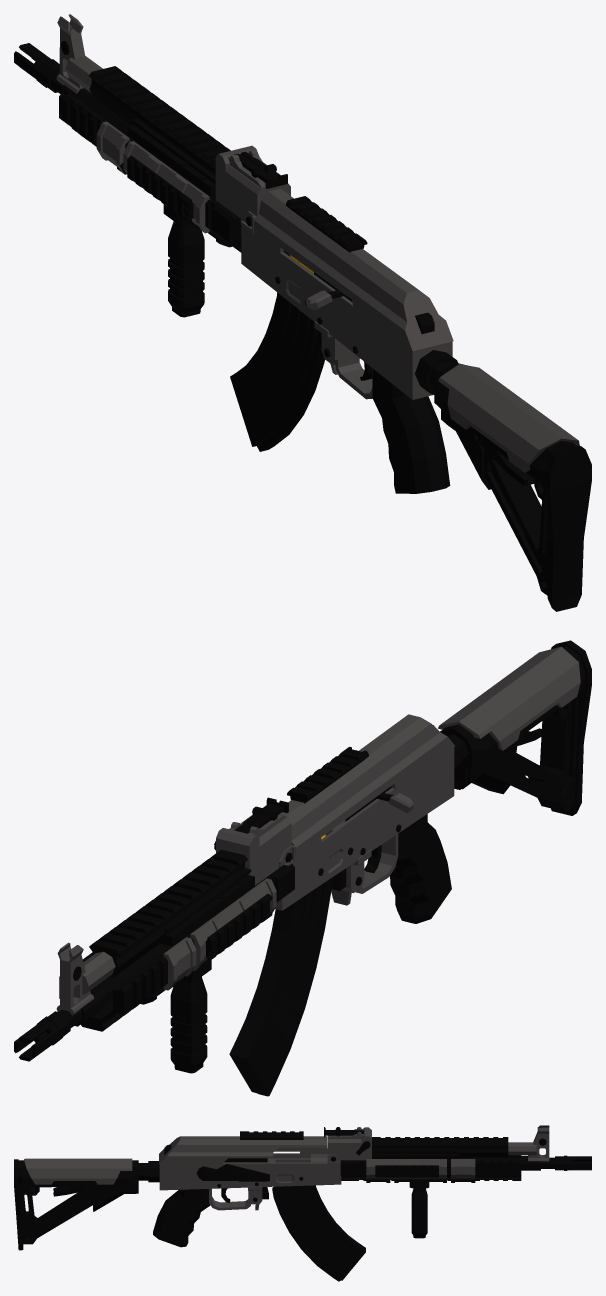
The model's file is ak_beta.fbx.
3 renders of one model, top to bottom at view 1: azimuth 30°, elevation 25°; view 2: azimuth 150°, elevation 25°; view 3: azimuth 270°, elevation 25°, orthographic. The views are drawn at different scales.
Parts seen in each view (by area): view 1: AK-BETA, AK-BETA-MAG, Grip, rails; view 2: AK-BETA, AK-BETA-MAG, Grip, rails; view 3: AK-BETA, AK-BETA-MAG, Grip, Pull, rails.
Part boxes in pixels (<box>): AK-BETA: <box>14,14,591,611</box>; AK-BETA-MAG: <box>230,255,324,451</box>; Grip: <box>163,204,204,317</box>; rails: <box>286,196,367,252</box>; AK-BETA: <box>14,640,591,1061</box>; AK-BETA-MAG: <box>229,878,332,1096</box>; Grip: <box>170,960,211,1073</box>; rails: <box>287,746,368,803</box>; AK-BETA: <box>14,1125,591,1250</box>; AK-BETA-MAG: <box>272,1185,365,1281</box>; Grip: <box>409,1180,429,1238</box>; Pull: <box>196,1164,269,1181</box>; rails: <box>240,1131,303,1139</box>.
Size of the model in its own units: 112 by 337 by 1144.
